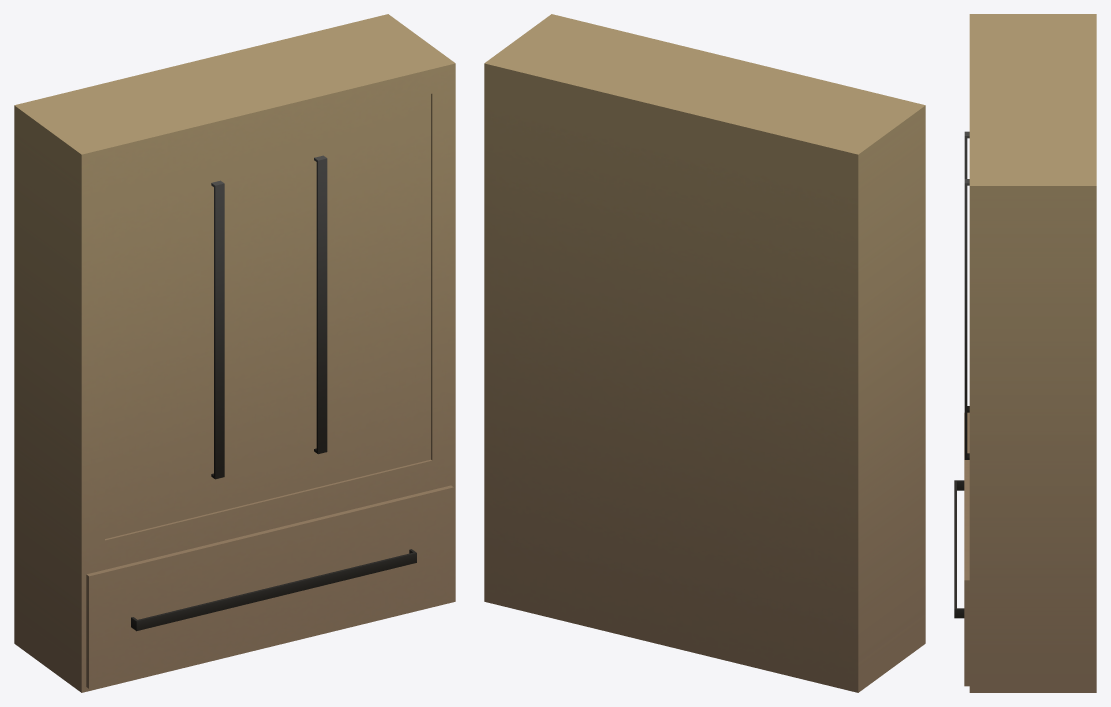
File: Wardrobe.fbx
3 views of the same model, side by side, from view 1: azimuth 30°, elevation 25°; view 2: azimuth 150°, elevation 25°; view 3: azimuth 270°, elevation 25° (orthographic). The views are drawn at different scales.
Parts seen in each view (by area): view 1: Wardrobe, Right Door, Left Door; view 2: Wardrobe; view 3: Wardrobe, Right Door.
Part boxes in pixels (x1,y1,x2,y2): Wardrobe: [14, 14, 455, 692]; Right Door: [267, 94, 430, 499]; Left Door: [105, 134, 267, 538]; Wardrobe: [484, 14, 925, 692]; Wardrobe: [954, 14, 1096, 692]; Right Door: [964, 179, 969, 459].
Size of the model in its own units: 800 by 1100 by 280.
